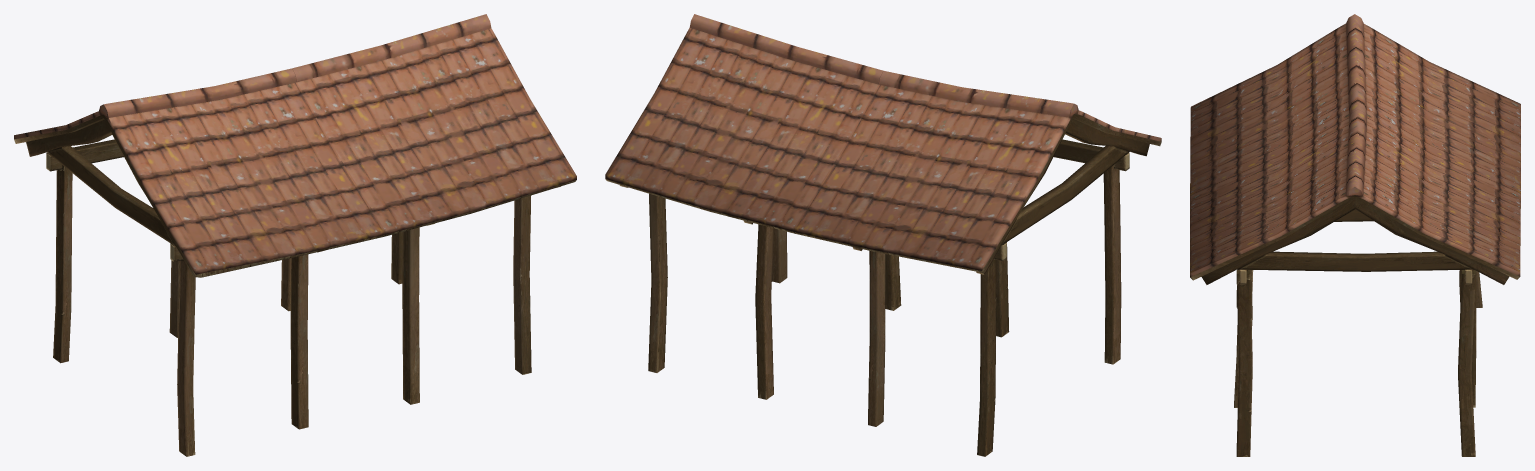
Rendered from garage.fbx.
The picture shows the model from 3 angles, left to right: view 1: azimuth 30°, elevation 25°; view 2: azimuth 150°, elevation 25°; view 3: azimuth 270°, elevation 25°; orthographic projection. The views are drawn at different scales.
Visible parts, largest first — view 1: GEOM0_LOD0; view 2: GEOM0_LOD0; view 3: GEOM0_LOD0.
Part boxes in pixels (box(x1,y1,x2,y2)): GEOM0_LOD0: box(14, 14, 576, 456); GEOM0_LOD0: box(605, 14, 1161, 456); GEOM0_LOD0: box(1190, 14, 1520, 456).
Size of what is drawn, in the model's own units: 857 by 664 by 704.
